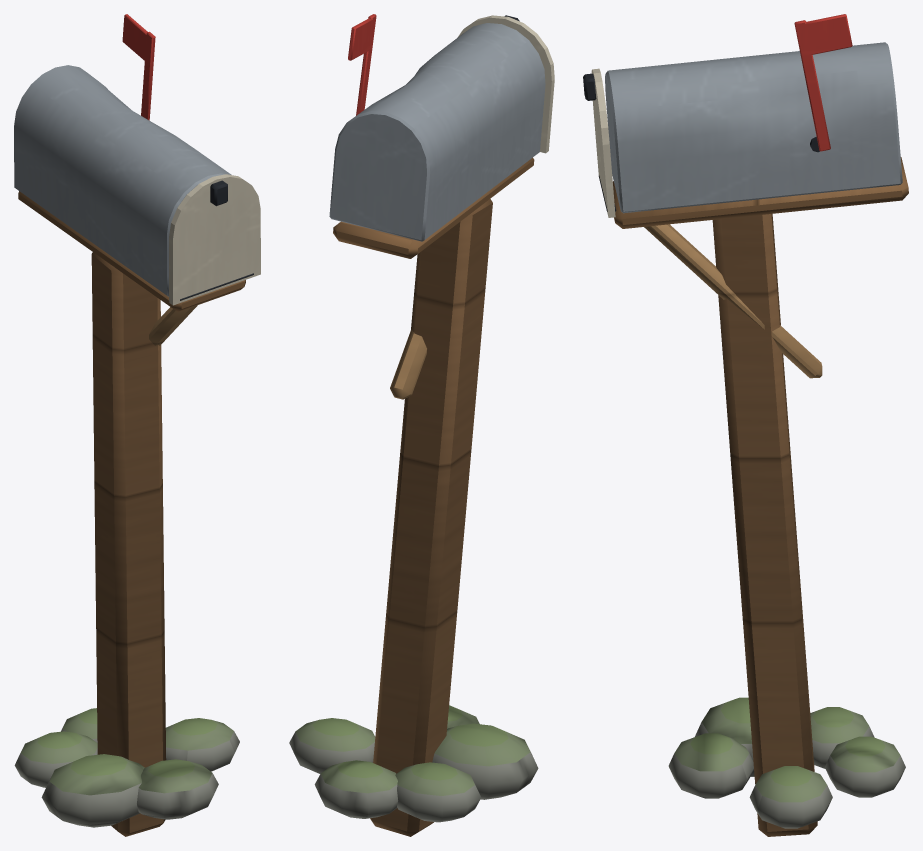
Rendered from mailbox_post.glb.
3 renders of one model, left to right at view 1: azimuth 30°, elevation 25°; view 2: azimuth 150°, elevation 25°; view 3: azimuth 270°, elevation 25°, orthographic. The views are drawn at different scales.
Visible parts, largest first — view 1: mailbox_post; view 2: mailbox_post; view 3: mailbox_post.
Boxes of the visible parts, bbox=[...] form: mailbox_post: bbox=[14, 14, 260, 836]; mailbox_post: bbox=[289, 14, 554, 836]; mailbox_post: bbox=[583, 14, 908, 836].
Bounding box in the file's own units: 0.4216 × 1.54 × 0.5512.
Materials: 9 (9 with a texture image).
